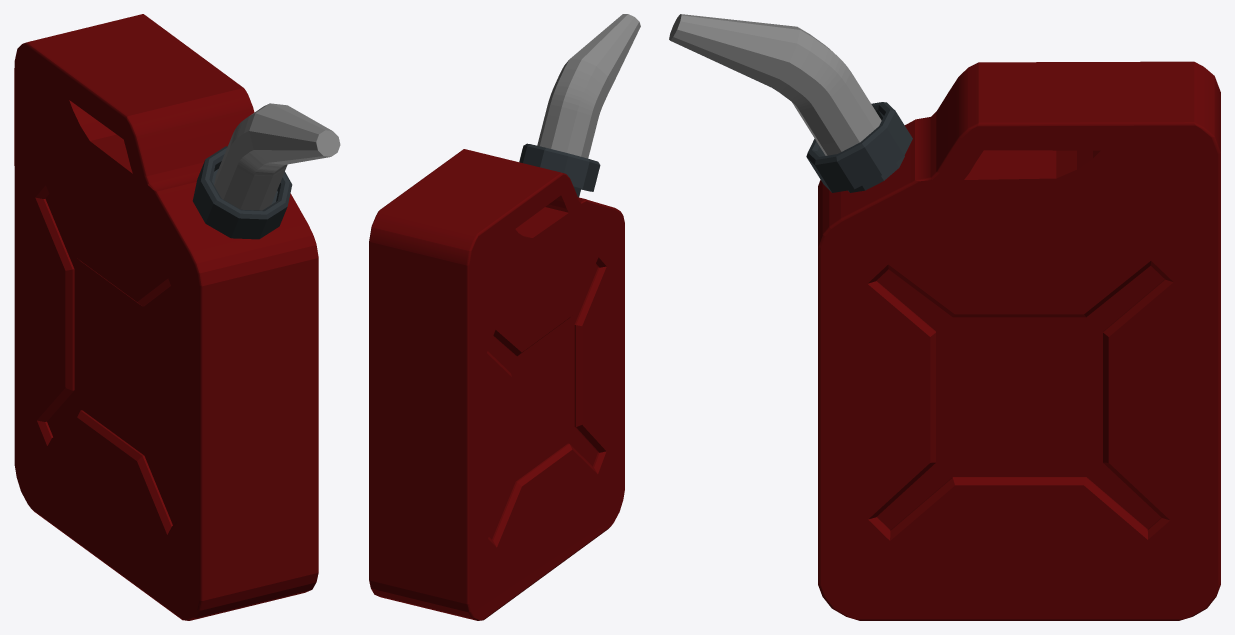
Rendered from GasCan.fbx.
The picture shows the model from 3 angles, left to right: view 1: azimuth 30°, elevation 25°; view 2: azimuth 150°, elevation 25°; view 3: azimuth 270°, elevation 25°; orthographic projection. The views are drawn at different scales.
Visible parts, largest first — view 1: Cylinder; view 2: Cylinder; view 3: Cylinder.
Part boxes in pixels (box(x1,y1,x2,y2)): Cylinder: box(14, 14, 340, 620); Cylinder: box(369, 14, 640, 620); Cylinder: box(669, 14, 1220, 620).
Bounding box in the file's own units: 37.52 × 161 × 140.
